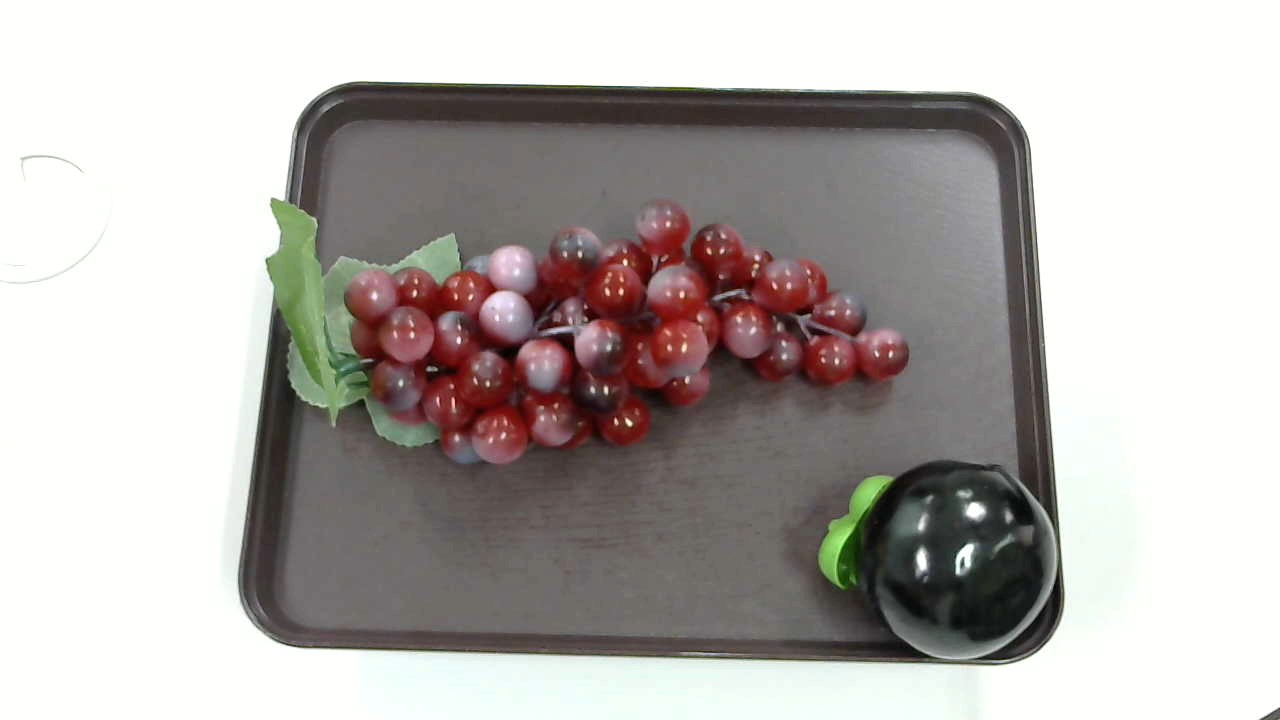grape: (257, 190, 915, 468)
mangosteen: (820, 463, 1062, 659)
